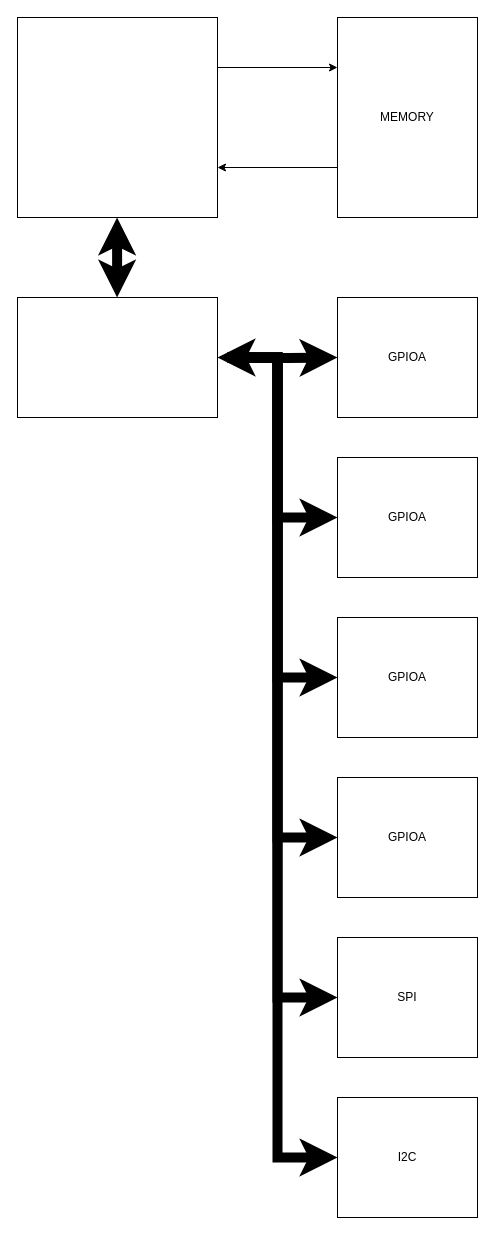
Image size: 495x1235. Some labels were removed from this diagram. Here are the shapes that lost their labels. From the top down, the box of each, then its label:
(16, 16, 218, 218): MicroBlaze CPU
(16, 296, 218, 418): axi
